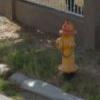Hydrant: (50, 16, 89, 89)
